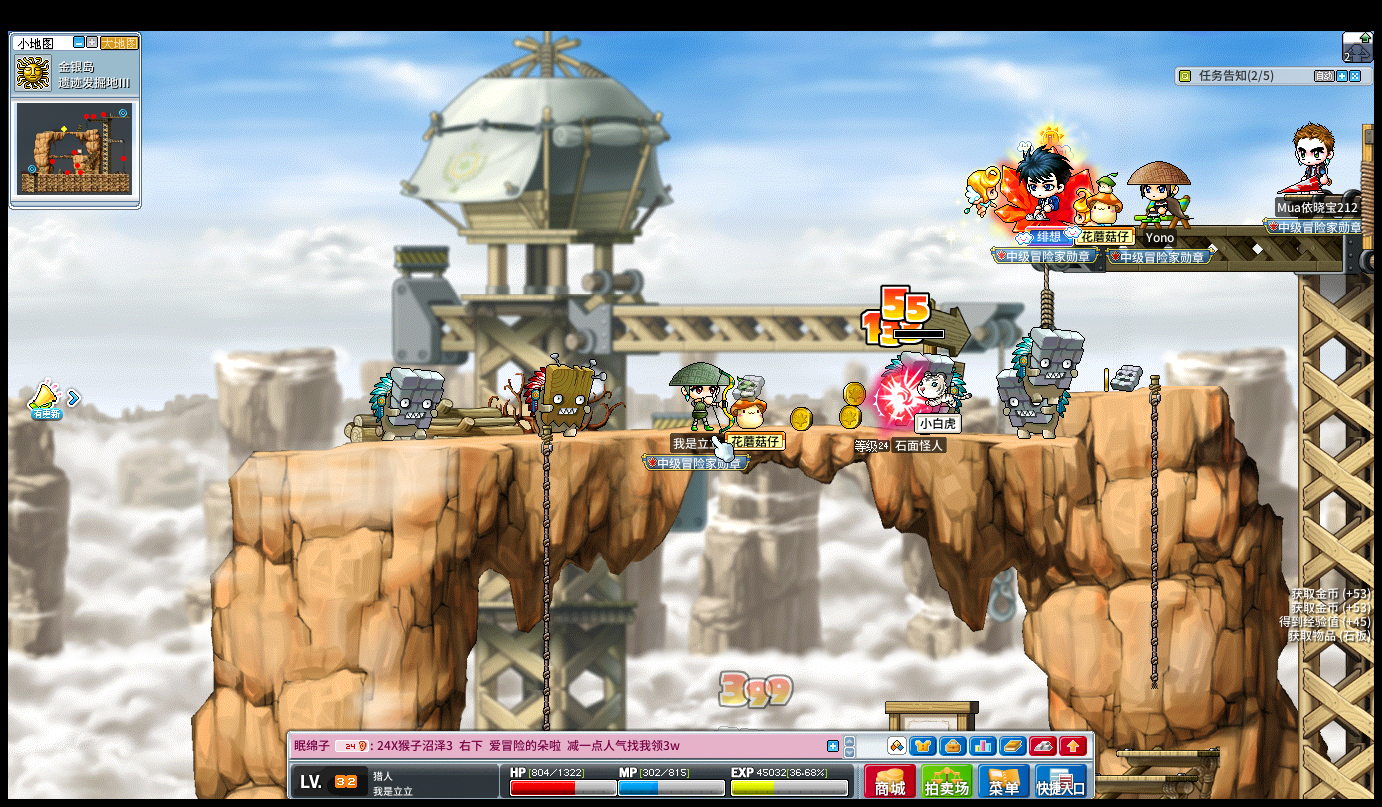floor: (244, 419, 1117, 451), (1075, 382, 1227, 398), (1114, 746, 1219, 759)
monster: (1005, 326, 1084, 438), (522, 354, 607, 438), (369, 366, 445, 444)
rope: (538, 422, 551, 799), (1146, 373, 1161, 695), (540, 422, 552, 672), (1040, 262, 1051, 330)
